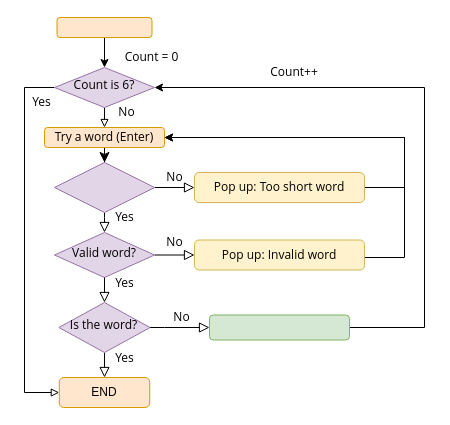
Image size: 450x425. Some labels were removed from this diagram. Here are the shapes that lost their labels. From the top down, the centre of each, then its label:
At pixel 104 27: "Display rules".
At pixel 104 187: "Same length?".
At pixel 279 327: "Feedback".
